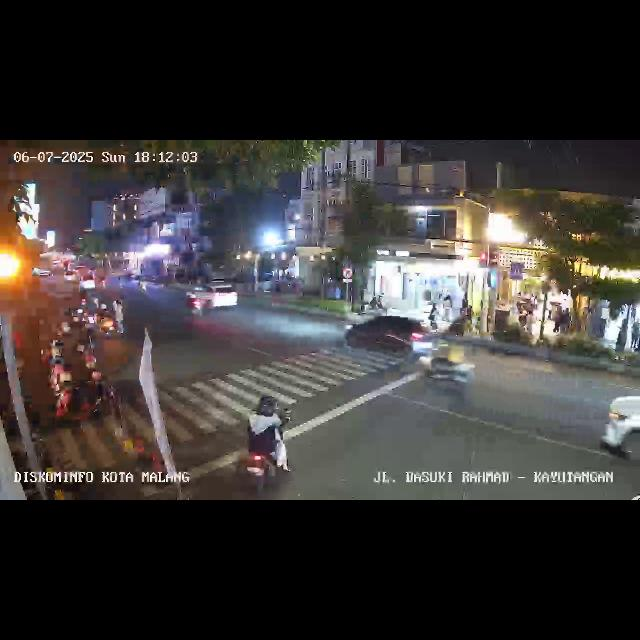car: (346, 312, 442, 376), (600, 386, 640, 476), (187, 280, 240, 312), (77, 272, 96, 292), (32, 266, 54, 280)
motorcycle: (238, 396, 292, 488), (412, 335, 476, 397), (185, 292, 201, 318)
person: (112, 300, 125, 338), (551, 302, 561, 336), (616, 320, 626, 350), (632, 318, 640, 354), (428, 302, 438, 330), (442, 293, 452, 321)
